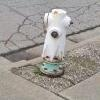a fire hydrant: (40, 8, 73, 68)
